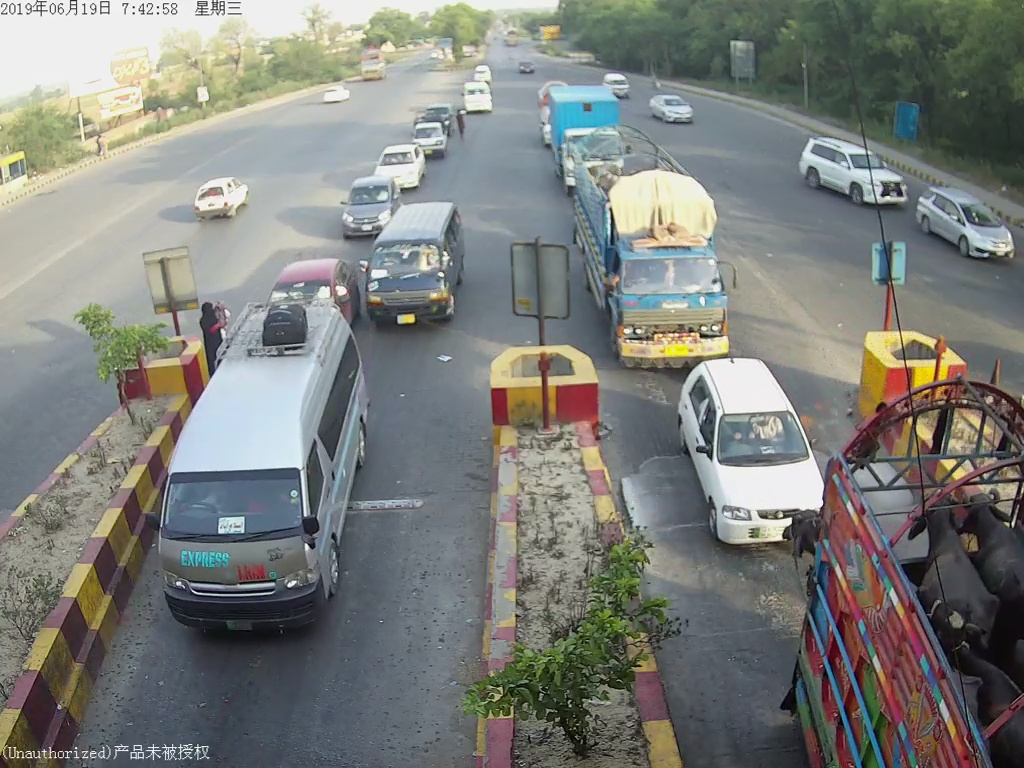Cat-1: (675, 364, 823, 561)
Cat-2: (146, 307, 363, 627), (365, 200, 467, 331)
Cat-4: (573, 131, 734, 356)
